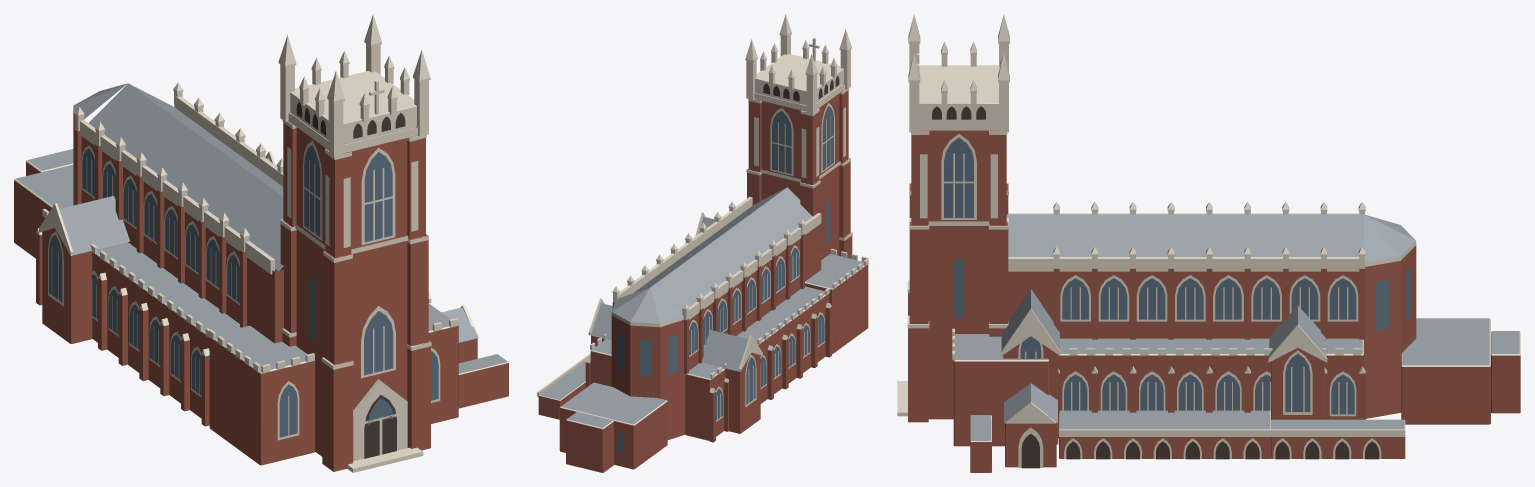
Rendered from nola-holy-name-of-jesus.glb.
3 renders of one model, left to right at view 1: azimuth 30°, elevation 25°; view 2: azimuth 150°, elevation 25°; view 3: azimuth 270°, elevation 25°, orthographic. The views are drawn at different scales.
Visible parts, largest first — view 1: Holy Name of Jesus Church; view 2: Holy Name of Jesus Church; view 3: Holy Name of Jesus Church.
Boxes of the visible parts, x1,y1,x2,y2 form: Holy Name of Jesus Church: (14,14,508,472); Holy Name of Jesus Church: (537,14,868,472); Holy Name of Jesus Church: (897,14,1520,472).
Bounding box in the file's own units: 35.6 × 48.8 × 75.1.
